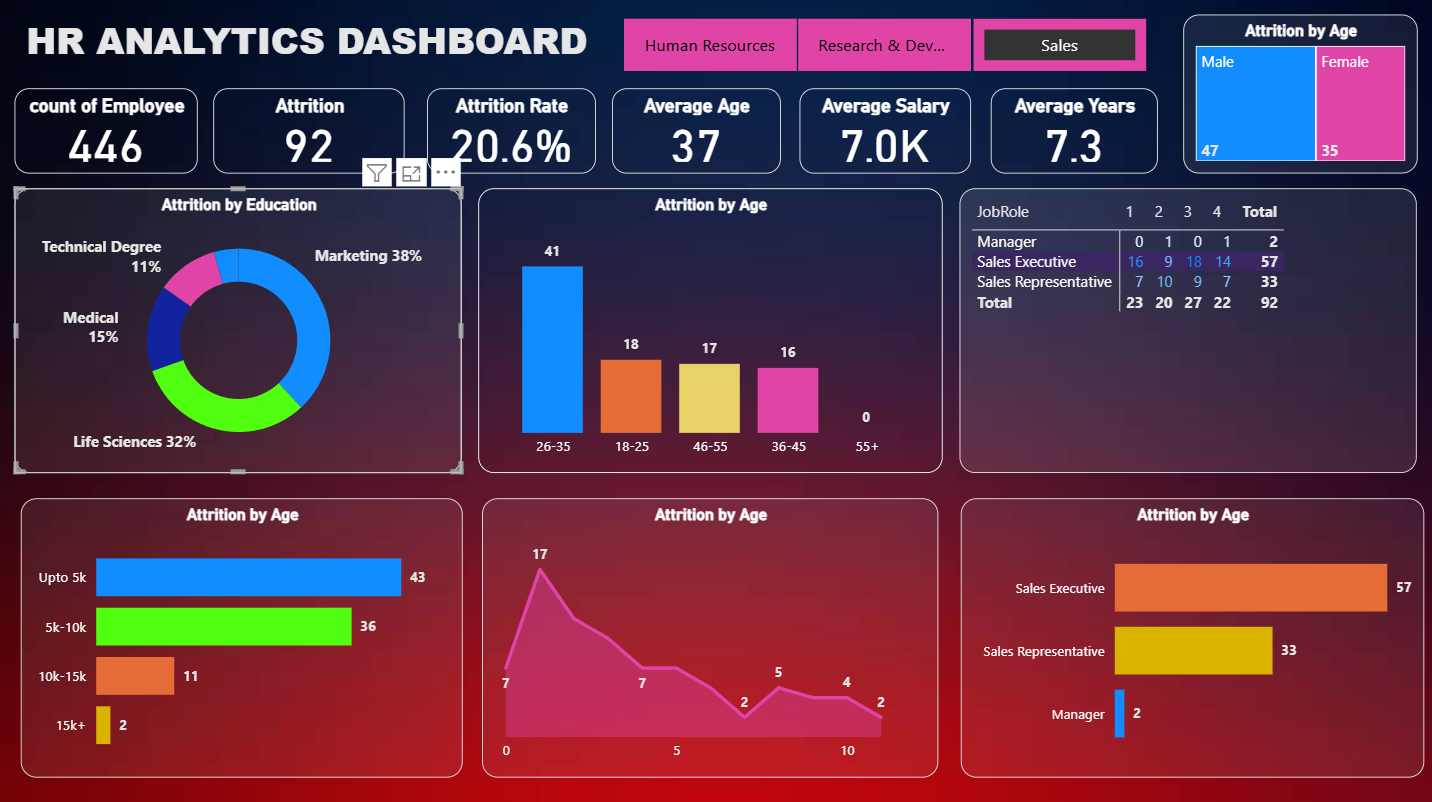

Layout of this report page (visuals, bound fields, positions):
{"tool":"powerbi","page":{"name":"Page 1","canvas":[1280,720],"ordinal":0},"visuals":[{"type":"card","title":"count of Employee","fields":{"Values":["CountNonNull(HR_Analytics.EmpID)"]},"box":[15.9,81.7,163.4,75.6],"z":0},{"type":"card","title":"Attrition","fields":{"Values":["Sum(HR_Analytics.AttritionCount)"]},"box":[192.7,81.7,170.7,75.6],"z":1000},{"type":"card","title":"Attrition Rate","fields":{"Values":["HR_Analytics.AttritionRate"]},"box":[382.9,81.7,150,75.6],"z":2000},{"type":"card","title":"Average Age","fields":{"Values":["Avg(HR_Analytics.Age)"]},"box":[547.6,81.7,150,75.6],"z":3000},{"type":"card","title":"Average Salary","fields":{"Values":["Avg(HR_Analytics.MonthlyIncome)"]},"box":[714.6,81.7,152.4,75.6],"z":4000},{"type":"card","title":"Average Years","fields":{"Values":["Avg(HR_Analytics.YearsAtCompany)"]},"box":[885.4,81.7,148.8,75.6],"z":5000},{"type":"donutChart","title":"Attrition by Education","fields":{"Category":["HR_Analytics.EducationField"],"Y":["Sum(HR_Analytics.AttritionCount)"]},"box":[15.9,170.7,398.8,253.7],"z":6000},{"type":"columnChart","title":"Attrition by Age","fields":{"Category":["HR_Analytics.AgeGroup"],"Y":["Sum(HR_Analytics.AttritionCount)"]},"box":[428,170.7,413.4,253.7],"z":7000},{"type":"pivotTable","fields":{"Rows":["HR_Analytics.JobRole"],"Columns":["HR_Analytics.JobSatisfaction"],"Values":["Sum(HR_Analytics.AttritionCount)"]},"box":[857.3,170.7,407.3,253.7],"z":8000},{"type":"barChart","title":"Attrition by Age","fields":{"Category":["HR_Analytics.SalarySlab"],"Y":["Sum(HR_Analytics.AttritionCount)"]},"box":[20.7,446.3,393.9,248.8],"z":9000},{"type":"barChart","title":"Attrition by Age","fields":{"Y":["Sum(HR_Analytics.AttritionCount)"],"Category":["HR_Analytics.JobRole"]},"box":[857.8,446.4,412.6,248.5],"z":10000},{"type":"areaChart","title":"Attrition by Age","fields":{"Category":["HR_Analytics.YearsAtCompany"],"Y":["Sum(HR_Analytics.AttritionCount)"]},"box":[431.9,446.4,406.6,248.5],"z":11000},{"type":"treemap","title":"Attrition by Age","fields":{"Group":["HR_Analytics.Gender"],"Values":["Sum(HR_Analytics.AttritionCount)"]},"box":[1056.1,15.9,208.5,141.5],"z":12000},{"type":"slicer","fields":{"Values":["HR_Analytics.Department"]},"box":[532,12.1,515.2,55.5],"z":13000},{"type":"textbox","box":[20.7,11,543.9,54.9],"z":14000}]}

Visuals, with their boxes in screenshot pixels (x1, y1, x2, y2), scaled from the page's 1280x720 canvas onto the 1432x802 screenshot:
"count of Employee" card: left=18, top=91, right=201, bottom=175
"Attrition" card: left=216, top=91, right=407, bottom=175
"Attrition Rate" card: left=428, top=91, right=596, bottom=175
"Average Age" card: left=613, top=91, right=780, bottom=175
"Average Salary" card: left=799, top=91, right=970, bottom=175
"Average Years" card: left=991, top=91, right=1157, bottom=175
"Attrition by Education" donutChart: left=18, top=190, right=464, bottom=473
"Attrition by Age" columnChart: left=479, top=190, right=941, bottom=473
pivotTable - HR_Analytics.JobRole x HR_Analytics.JobSatisfaction: left=959, top=190, right=1415, bottom=473
"Attrition by Age" barChart: left=23, top=497, right=464, bottom=774
"Attrition by Age" barChart: left=960, top=497, right=1421, bottom=774
"Attrition by Age" areaChart: left=483, top=497, right=938, bottom=774
"Attrition by Age" treemap: left=1182, top=18, right=1415, bottom=175
slicer - HR_Analytics.Department: left=595, top=13, right=1172, bottom=75
textbox: left=23, top=12, right=632, bottom=73
